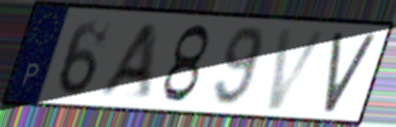6: (56, 17, 111, 98)
8: (160, 22, 212, 105)
9: (212, 24, 265, 109)
A: (92, 21, 161, 99)
V: (263, 26, 333, 113), (321, 31, 380, 115)
